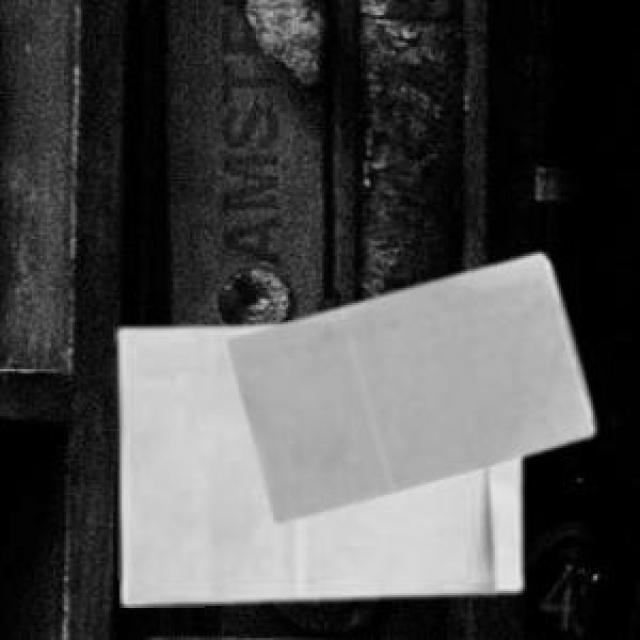paper: (115, 323, 518, 602), (224, 250, 589, 518)
